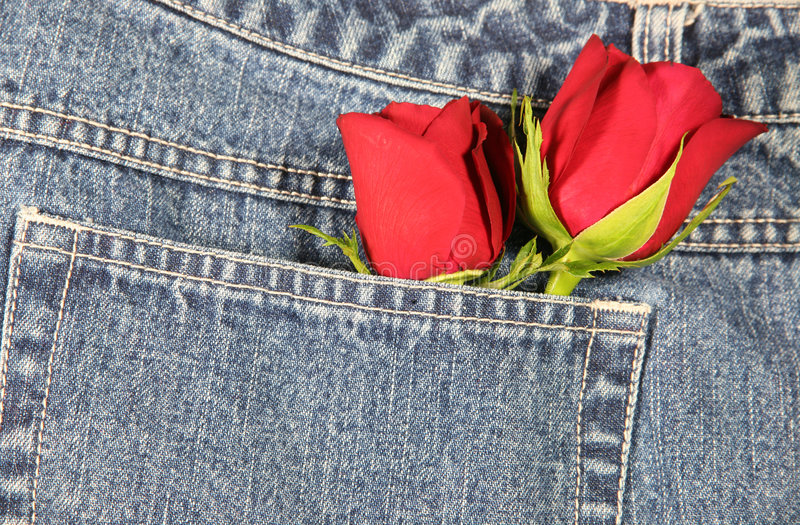RedRose: (520, 22, 770, 304), (327, 81, 512, 302)
